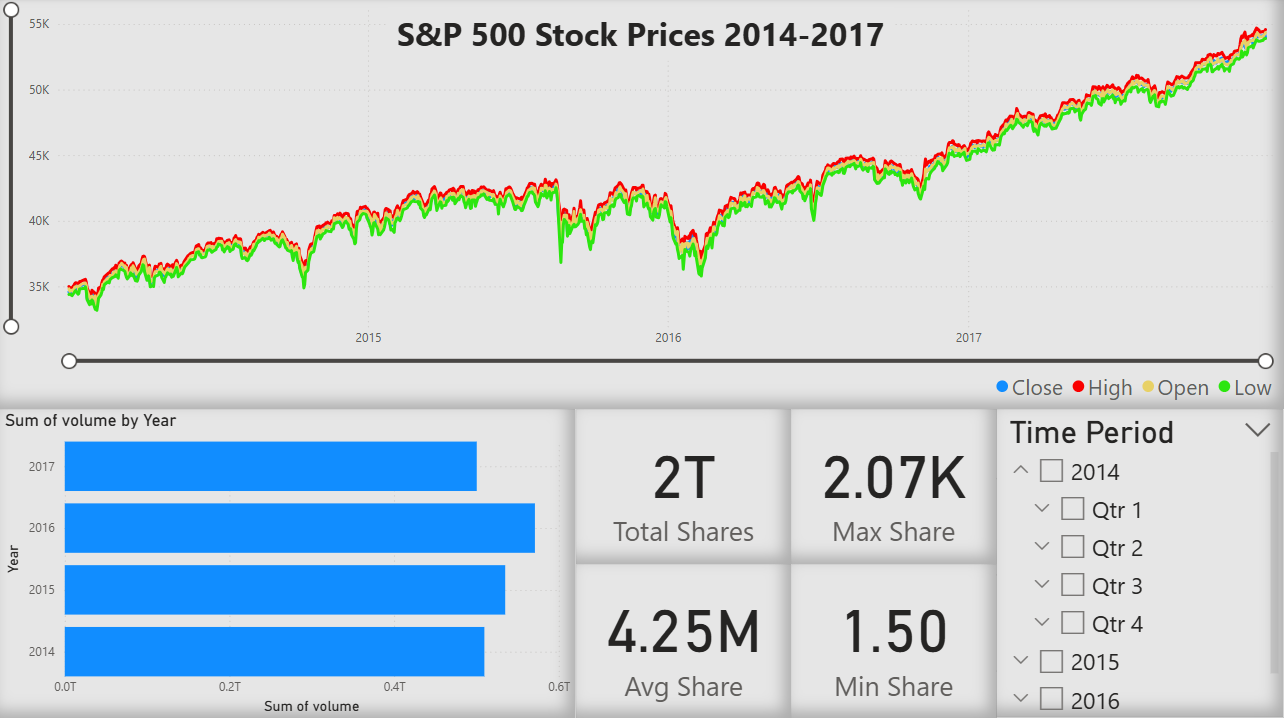

What the dashboard file says about the page in this screenshot:
{"tool":"powerbi","page":{"name":"Page 1","canvas":[1280,720],"ordinal":0},"visuals":[{"type":"lineChart","title":"S&P 500 Stock Prices 2014-2017","fields":{"Y":["Sum(S&P 500 Stock Prices 2014-2017.close)","Sum(S&P 500 Stock Prices 2014-2017.high)","Sum(S&P 500 Stock Prices 2014-2017.open)","Sum(S&P 500 Stock Prices 2014-2017.low)"],"Category":["S&P 500 Stock Prices 2014-2017.date.Variation.Date Hierarchy.Year","S&P 500 Stock Prices 2014-2017.date.Variation.Date Hierarchy.Quarter","S&P 500 Stock Prices 2014-2017.date.Variation.Date Hierarchy.Month","S&P 500 Stock Prices 2014-2017.date.Variation.Date Hierarchy.Day"]},"box":[0,0,1280.4,411.4],"z":0},{"type":"barChart","fields":{"Category":["S&P 500 Stock Prices 2014-2017.date.Variation.Date Hierarchy.Year","S&P 500 Stock Prices 2014-2017.date.Variation.Date Hierarchy.Quarter","S&P 500 Stock Prices 2014-2017.date.Variation.Date Hierarchy.Month","S&P 500 Stock Prices 2014-2017.date.Variation.Date Hierarchy.Day"],"Y":["Sum(S&P 500 Stock Prices 2014-2017.volume)"]},"box":[0,411.4,573.5,309.2],"z":1000},{"type":"slicer","fields":{"Values":["S&P 500 Stock Prices 2014-2017.date.Variation.Date Hierarchy.Year","S&P 500 Stock Prices 2014-2017.date.Variation.Date Hierarchy.Quarter","S&P 500 Stock Prices 2014-2017.date.Variation.Date Hierarchy.Month","S&P 500 Stock Prices 2014-2017.date.Variation.Date Hierarchy.Day"]},"box":[993.2,411.4,286.8,306.7],"z":2000},{"type":"card","fields":{"Values":["Sum(S&P 500 Stock Prices 2014-2017.volume)"]},"box":[574.5,411.4,214.4,154.6],"z":3000},{"type":"card","fields":{"Values":["Avg(S&P 500 Stock Prices 2014-2017.volume)"]},"box":[574.5,566,214.4,153.4],"z":4000},{"type":"card","fields":{"Values":["Max(S&P 500 Stock Prices 2014-2017.high)"]},"box":[788.9,411.4,204.5,154.6],"z":5000},{"type":"card","fields":{"Values":["Min(S&P 500 Stock Prices 2014-2017.low)"]},"box":[789.2,566,204.5,153.4],"z":6000},{"type":"textbox","box":[386.5,10,504.9,53.6],"z":7000}]}

Visuals, with their boxes in screenshot pixels (x1, y1, x2, y2), scaled from the page's 1280x720 canvas onto the 1284x718 screenshot:
"S&P 500 Stock Prices 2014-2017" lineChart: detection(0, 0, 1283, 410)
barChart - S&P 500 Stock Prices 2014-2017.date.Variation.Date Hierarchy.Year x S&P 500 Stock Prices 2014-2017.date.Variation.Date Hierarchy.Quarter: detection(0, 410, 575, 717)
slicer - S&P 500 Stock Prices 2014-2017.date.Variation.Date Hierarchy.Year x S&P 500 Stock Prices 2014-2017.date.Variation.Date Hierarchy.Quarter: detection(996, 410, 1283, 716)
card - Sum(S&P 500 Stock Prices 2014-2017.volume): detection(576, 410, 791, 564)
card - Avg(S&P 500 Stock Prices 2014-2017.volume): detection(576, 564, 791, 717)
card - Max(S&P 500 Stock Prices 2014-2017.high): detection(791, 410, 997, 564)
card - Min(S&P 500 Stock Prices 2014-2017.low): detection(792, 564, 997, 717)
textbox: detection(388, 10, 894, 63)
